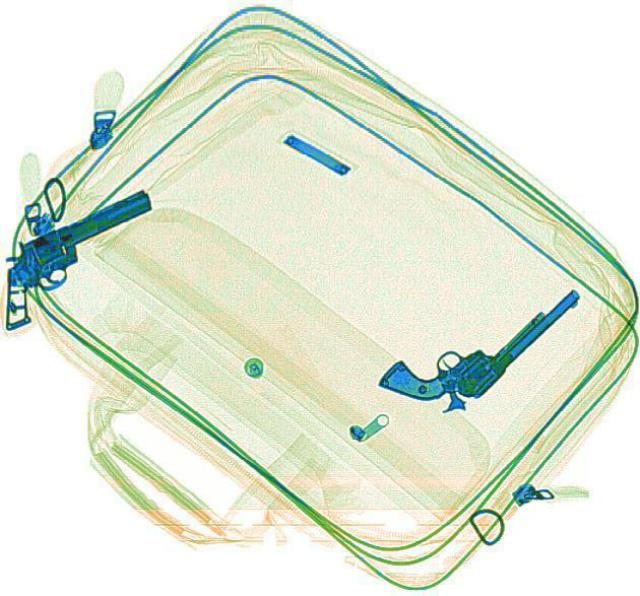Gun: (372, 244, 584, 432), (0, 188, 170, 298)
